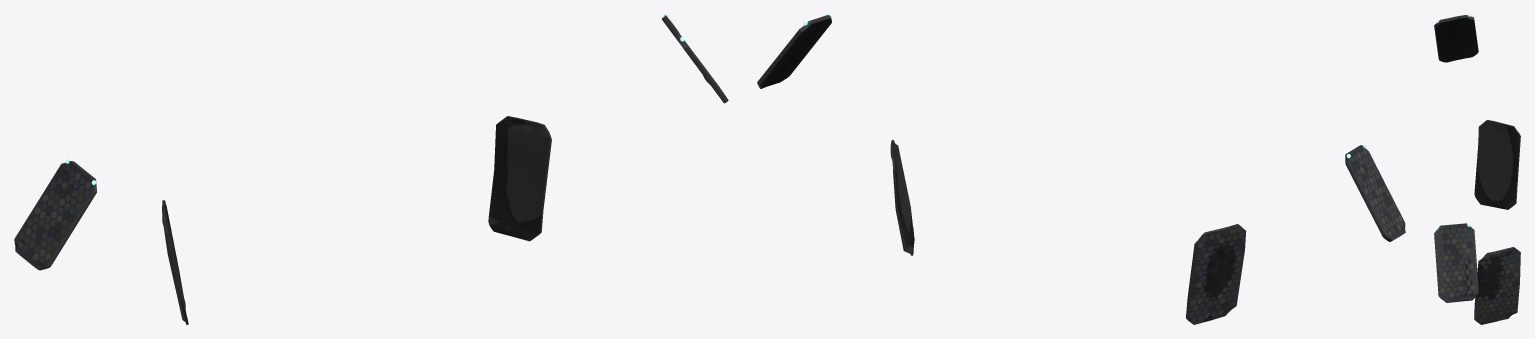
Rendered from cm1_chromatophore_mesh.gltf.
The picture shows the model from 3 angles, left to right: view 1: azimuth 30°, elevation 25°; view 2: azimuth 150°, elevation 25°; view 3: azimuth 270°, elevation 25°; orthographic projection. The views are drawn at different scales.
Visible parts, largest first — view 1: B_chest__cm1_chromatophore_mesh, B_upper_arm_R__cm1_chromatophore_mesh, B_upper_arm_L__cm1_chromatophore_mesh; view 2: B_chest__cm1_chromatophore_mesh, B_upper_arm_R__cm1_chromatophore_mesh, B_upper_arm_L__cm1_chromatophore_mesh; view 3: B_chest__cm1_chromatophore_mesh, B_upper_arm_L__cm1_chromatophore_mesh, B_upper_arm_R__cm1_chromatophore_mesh.
Part boxes in pixels (x1,y1,x2,y2): B_chest__cm1_chromatophore_mesh: (162,116,551,324); B_upper_arm_R__cm1_chromatophore_mesh: (14,159,96,270); B_upper_arm_L__cm1_chromatophore_mesh: (662,14,728,103); B_chest__cm1_chromatophore_mesh: (890,140,1246,324); B_upper_arm_R__cm1_chromatophore_mesh: (1345,144,1405,241); B_upper_arm_L__cm1_chromatophore_mesh: (757,14,831,88); B_chest__cm1_chromatophore_mesh: (1474,120,1520,324); B_upper_arm_L__cm1_chromatophore_mesh: (1434,223,1478,302); B_upper_arm_R__cm1_chromatophore_mesh: (1434,14,1478,62).
Bounding box in the file's own units: 0.742 × 0.2061 × 0.1111.
Materials: 1 (1 with a texture image).
